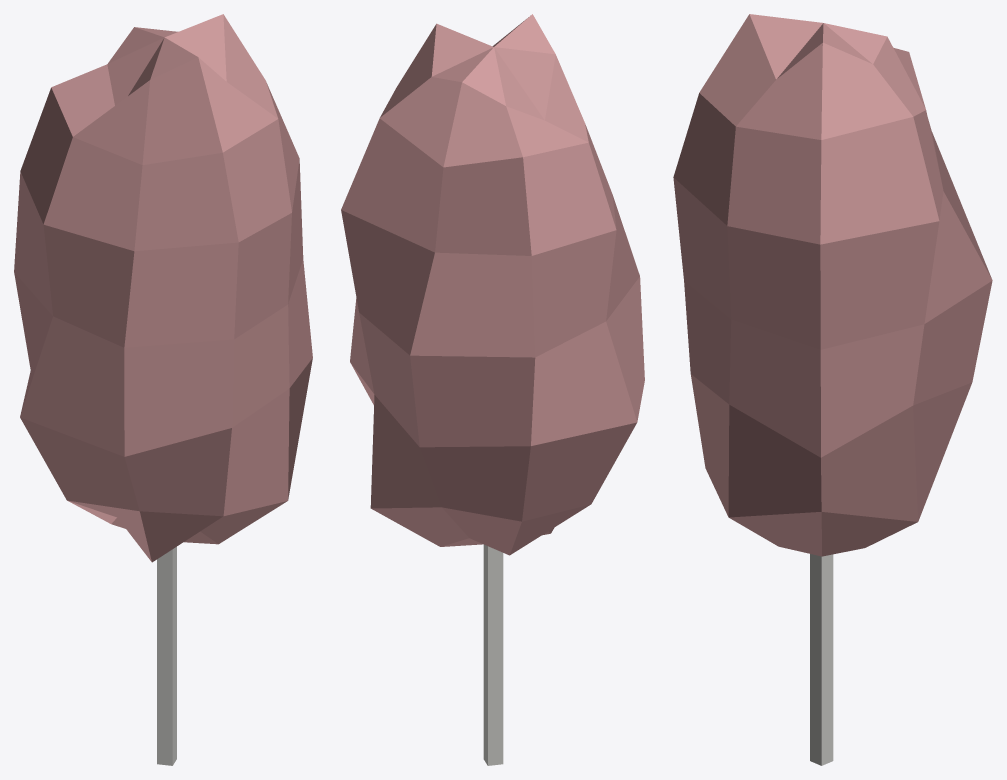
Rendered from SM_Candyfloss.fbx.
3 views of the same model, side by side, from view 1: azimuth 30°, elevation 25°; view 2: azimuth 150°, elevation 25°; view 3: azimuth 270°, elevation 25° (orthographic). The views are drawn at different scales.
Visible parts, largest first — view 1: SM_Candyfloss; view 2: SM_Candyfloss; view 3: SM_Candyfloss.
Boxes of the visible parts, left/top/right/bottom form: SM_Candyfloss: left=14, top=14, right=312, bottom=765; SM_Candyfloss: left=341, top=14, right=644, bottom=765; SM_Candyfloss: left=673, top=14, right=992, bottom=765.
Bounding box in the file's own units: 29.24 × 70.19 × 27.19.
